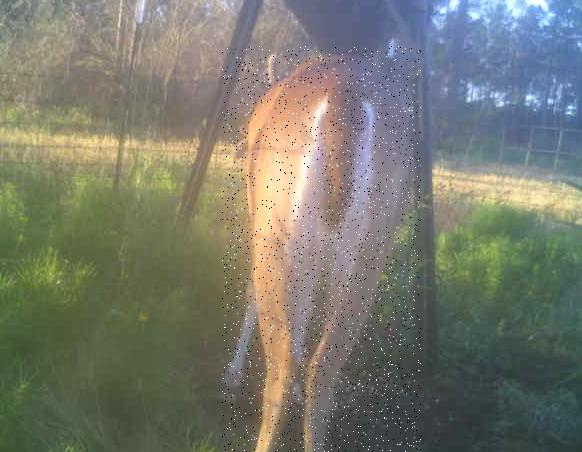Deer: (222, 46, 421, 452)
